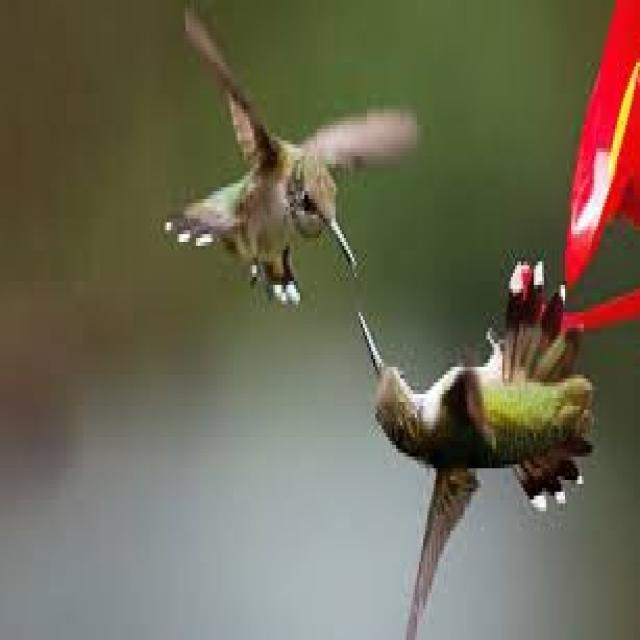Humming Bird: (351, 273, 587, 635), (169, 4, 418, 311)
